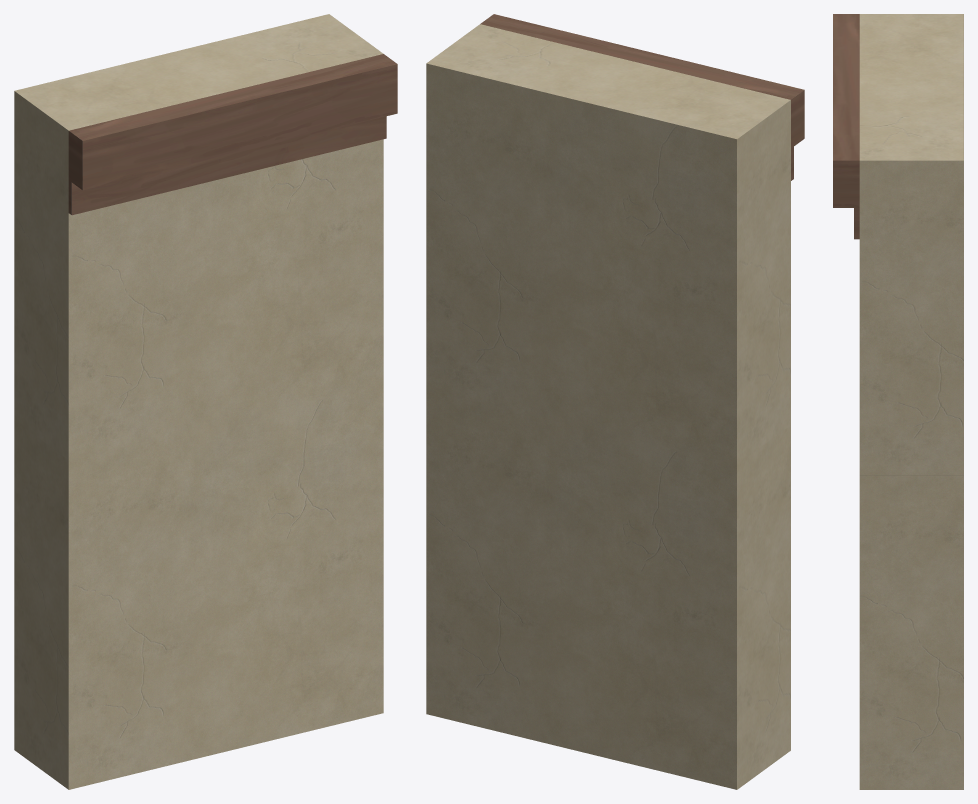
Rendered from Wall.glb.
The picture shows the model from 3 angles, left to right: view 1: azimuth 30°, elevation 25°; view 2: azimuth 150°, elevation 25°; view 3: azimuth 270°, elevation 25°; orthographic projection. The views are drawn at different scales.
Visible parts, largest first — view 1: Wall; view 2: Wall; view 3: Wall.
Part boxes in pixels (x1,y1,x2,y2): Wall: (14,14,397,789); Wall: (426,14,804,789); Wall: (833,14,963,789).
Size of the model in its own units: 2 by 4 by 0.7533.
Materials: 1 (1 with a texture image).
